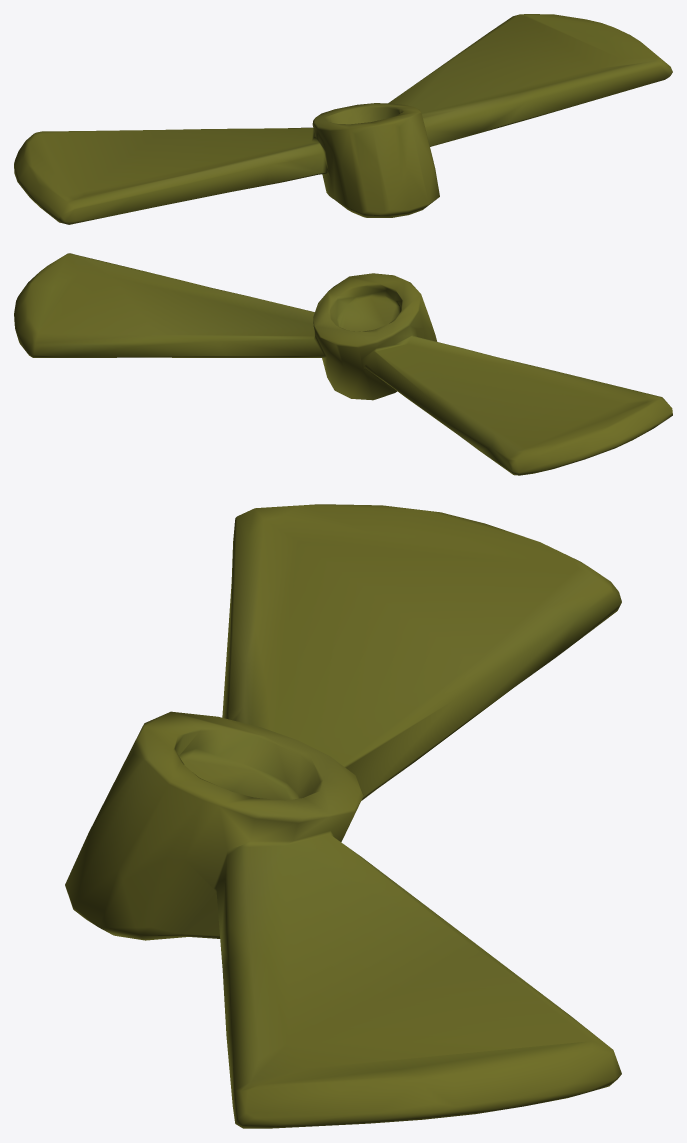
The model's file is gen3d-sunken-propeller-lod1.glb.
3 renders of one model, top to bottom at view 1: azimuth 30°, elevation 25°; view 2: azimuth 150°, elevation 25°; view 3: azimuth 270°, elevation 25°, orthographic. The views are drawn at different scales.
Visible parts, largest first — view 1: part_0; view 2: part_0; view 3: part_0.
Part boxes in pixels (box(x1,y1,x2,y2)): part_0: box(14, 14, 672, 224); part_0: box(14, 253, 672, 475); part_0: box(65, 504, 621, 1128).
Bounding box in the file's own units: 6.85 × 0.9995 × 2.69.
